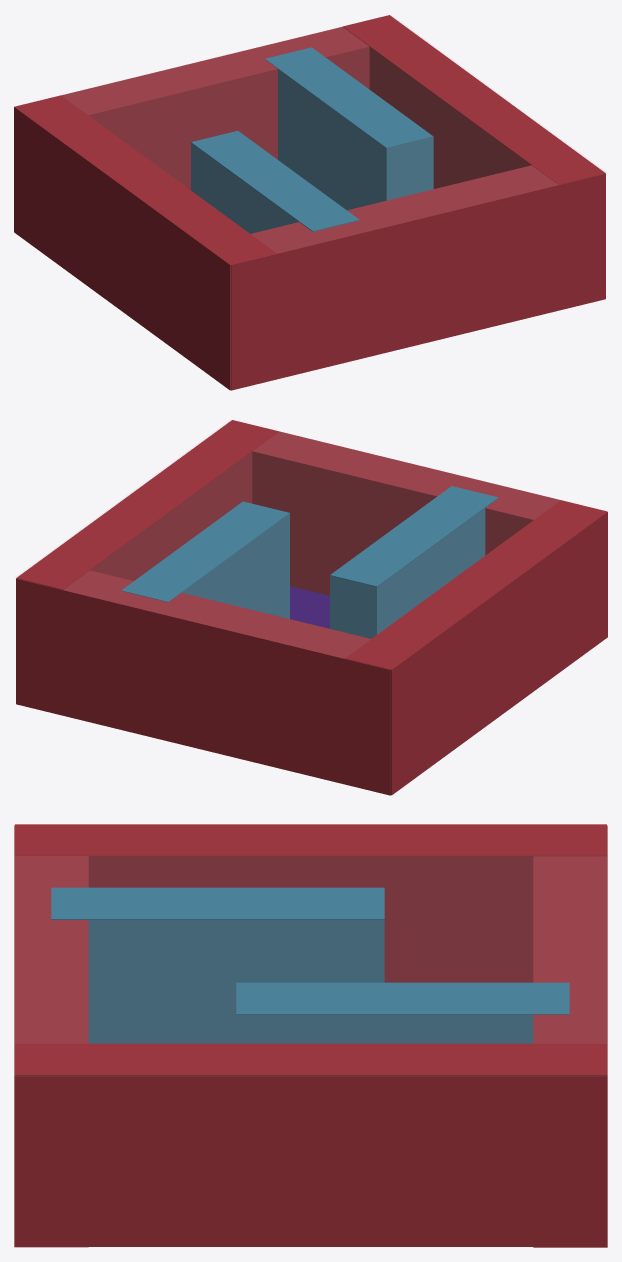
Rendered from Maya-Maze-2.fbx.
The picture shows the model from 3 angles, top to bottom: view 1: azimuth 30°, elevation 25°; view 2: azimuth 150°, elevation 25°; view 3: azimuth 270°, elevation 25°; orthographic projection. The views are drawn at different scales.
Parts seen in each view (by area): view 1: Maze_Wall_01, Maze_Wall_04, Maze_Wall_02, Maze_Wall_03, Maze_Wall_05, Maze_Wall_06; view 2: Maze_Wall_02, Maze_Wall_04, Maze_Wall_01, Maze_Wall_03, Maze_Wall_06, Maze_Wall_05, Maze_Base_1; view 3: Maze_Wall_03, Maze_Wall_04, Maze_Wall_06, Maze_Wall_05, Maze_Wall_02, Maze_Wall_01.
Part boxes in pixels (bbox=[...]): Maze_Wall_01: bbox=[231, 165, 605, 390]; Maze_Wall_04: bbox=[14, 95, 276, 390]; Maze_Wall_02: bbox=[61, 27, 369, 190]; Maze_Wall_03: bbox=[342, 15, 605, 188]; Maze_Wall_05: bbox=[265, 47, 433, 210]; Maze_Wall_06: bbox=[191, 130, 359, 233]; Maze_Wall_02: bbox=[16, 570, 390, 795]; Maze_Wall_04: bbox=[345, 500, 607, 795]; Maze_Wall_01: bbox=[252, 431, 604, 595]; Maze_Wall_03: bbox=[16, 420, 278, 589]; Maze_Wall_06: bbox=[330, 486, 498, 638]; Maze_Wall_05: bbox=[121, 501, 289, 618]; Maze_Base_1: bbox=[290, 586, 329, 628]; Maze_Wall_03: bbox=[15, 1043, 606, 1246]; Maze_Wall_04: bbox=[15, 824, 606, 982]; Maze_Wall_06: bbox=[51, 887, 384, 1043]; Maze_Wall_05: bbox=[236, 982, 569, 1043]; Maze_Wall_02: bbox=[533, 825, 607, 1247]; Maze_Wall_01: bbox=[14, 825, 88, 1247].
Bounding box in the file's own units: 8.04 × 2.58 × 8.
